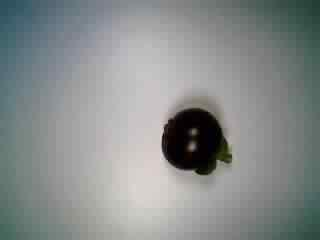mangosteen: (155, 105, 237, 177)
